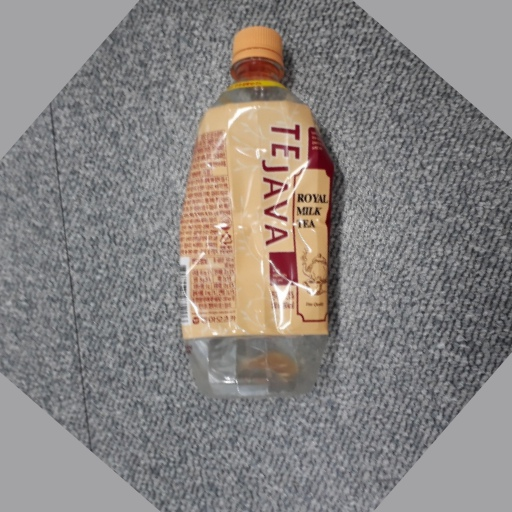Plastic_0: (181, 17, 332, 412)
